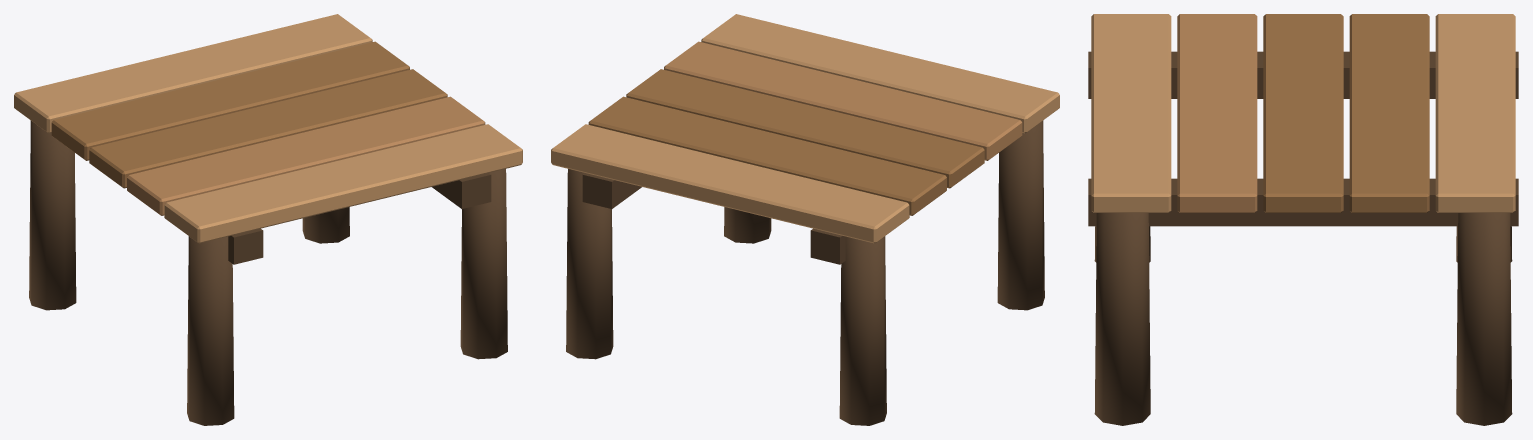
The model's file is pier.glb.
3 renders of one model, left to right at view 1: azimuth 30°, elevation 25°; view 2: azimuth 150°, elevation 25°; view 3: azimuth 270°, elevation 25°, orthographic. The views are drawn at different scales.
Parts seen in each view (by area): view 1: pier; view 2: pier; view 3: pier.
Part boxes in pixels (x1=…): pier: x1=14, y1=14, x2=522, y2=425; pier: x1=551, y1=14, x2=1059, y2=425; pier: x1=1088, y1=14, x2=1518, y2=425.
Bounding box in the file's own units: 1 × 0.6 × 1.
